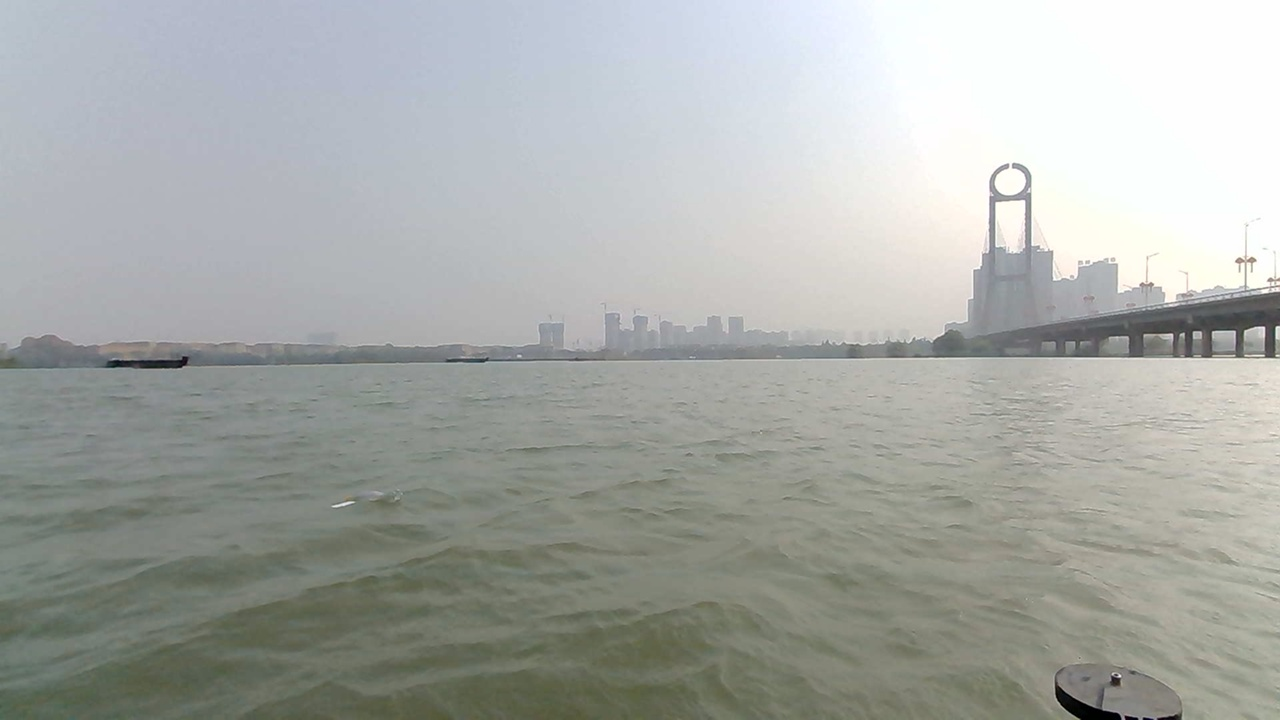bottle: (301, 493, 431, 549)
